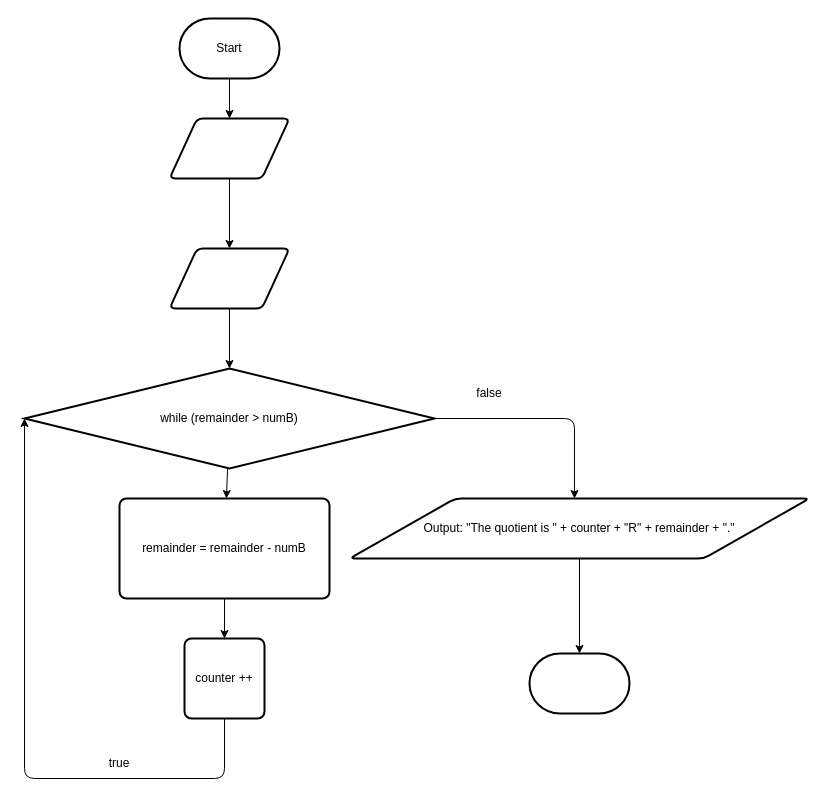
The diagram is 828 pixels wide and 804 high, and some of its shapes have lost their labels. The shapes that lost their labels are listed below. From the top down, each one's centre as x and y in pixels, then its label:
At (x=229, y=148): "Input value A".
At (x=229, y=278): "Input value B".
At (x=579, y=683): "Stop".
